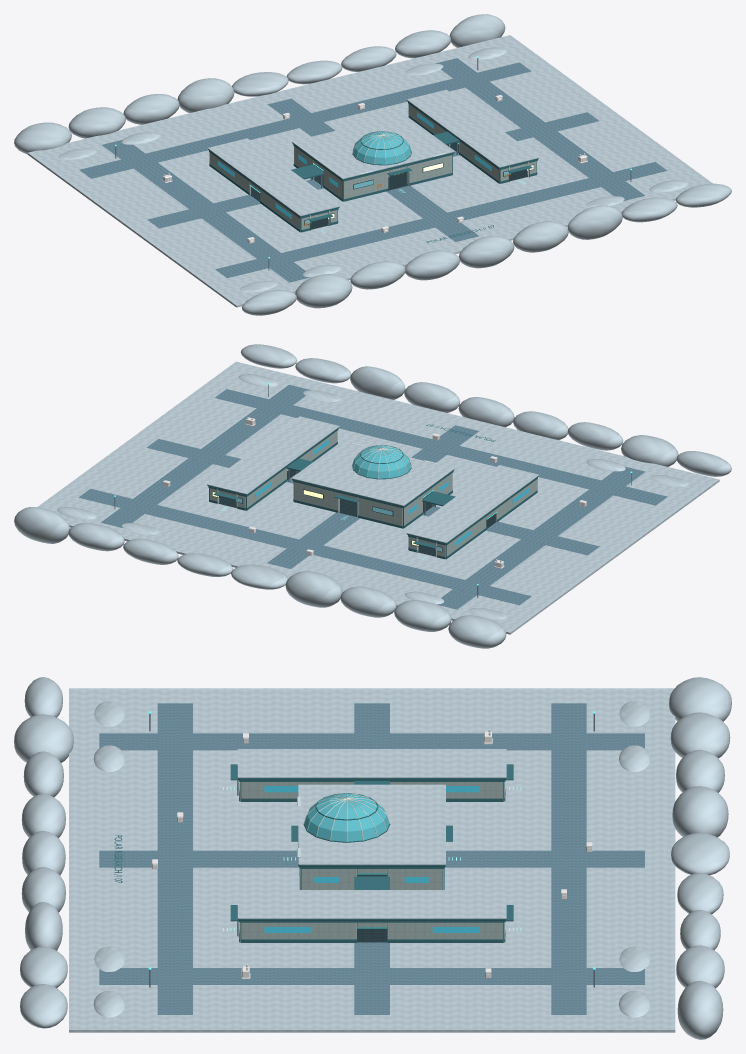
Rendered from snow-medium.glb.
3 renders of one model, top to bottom at view 1: azimuth 30°, elevation 25°; view 2: azimuth 150°, elevation 25°; view 3: azimuth 270°, elevation 25°, orthographic. The views are drawn at different scales.
Visible parts, largest first — view 1: Batched 0.001, Batched 1.001, Batched 7.001, Batched 3.001, Batched 49.001, Concept arctic observatory glass facets.003, Batched 6.001, Batched 2.001; view 2: Batched 0.001, Batched 1.001, Batched 7.001, Batched 3.001, Batched 49.001, Concept arctic observatory glass facets.003, Batched 6.001, Batched 2.001; view 3: Batched 0.001, Batched 1.001, Batched 7.001, Batched 3.001, Batched 49.001, Concept arctic observatory glass facets.003, Batched 6.001, Batched 5.001, Batched 57, Batched 2.001.
Boxes of the visible parts, <box> form: Batched 0.001: <box>14,14,731,315</box>; Batched 1.001: <box>79,58,667,282</box>; Batched 7.001: <box>207,89,539,216</box>; Batched 3.001: <box>210,104,536,231</box>; Batched 49.001: <box>209,102,537,243</box>; Concept arctic observatory glass facets.003: <box>353,131,411,164</box>; Batched 6.001: <box>208,100,538,217</box>; Batched 2.001: <box>250,142,526,229</box>; Batched 0.001: <box>14,344,731,648</box>; Batched 1.001: <box>78,384,667,609</box>; Batched 7.001: <box>207,416,538,543</box>; Batched 3.001: <box>209,431,536,558</box>; Batched 49.001: <box>208,424,537,559</box>; Concept arctic observatory glass facets.003: <box>352,445,410,478</box>; Batched 6.001: <box>207,427,538,544</box>; Batched 2.001: <box>219,469,495,556</box>; Batched 0.001: <box>14,677,731,1039</box>; Batched 1.001: <box>99,703,644,1014</box>; Batched 7.001: <box>237,749,506,918</box>; Batched 3.001: <box>239,782,504,942</box>; Batched 49.001: <box>114,764,513,942</box>; Concept arctic observatory glass facets.003: <box>304,793,389,841</box>; Batched 6.001: <box>238,778,506,920</box>; Batched 5.001: <box>239,782,504,932</box>; Batched 57: <box>303,793,389,841</box>; Batched 2.001: <box>357,873,387,942</box>.
Bounding box in the file's own units: 162 × 17.71 × 142.
Materials: 21 (4 with a texture image).
